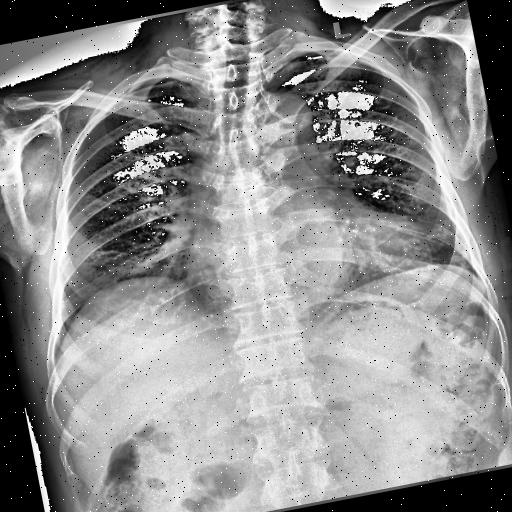0- Aortic enlargement: (240, 81, 328, 163), (243, 84, 318, 158), (236, 82, 316, 146)
3- Cardiomegaly: (178, 196, 440, 313), (171, 214, 438, 327), (181, 210, 435, 308)
